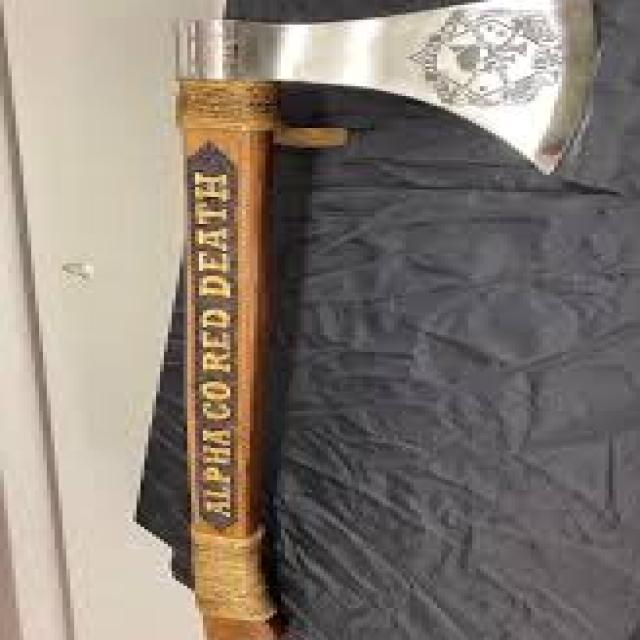Gun: (117, 0, 632, 640)
